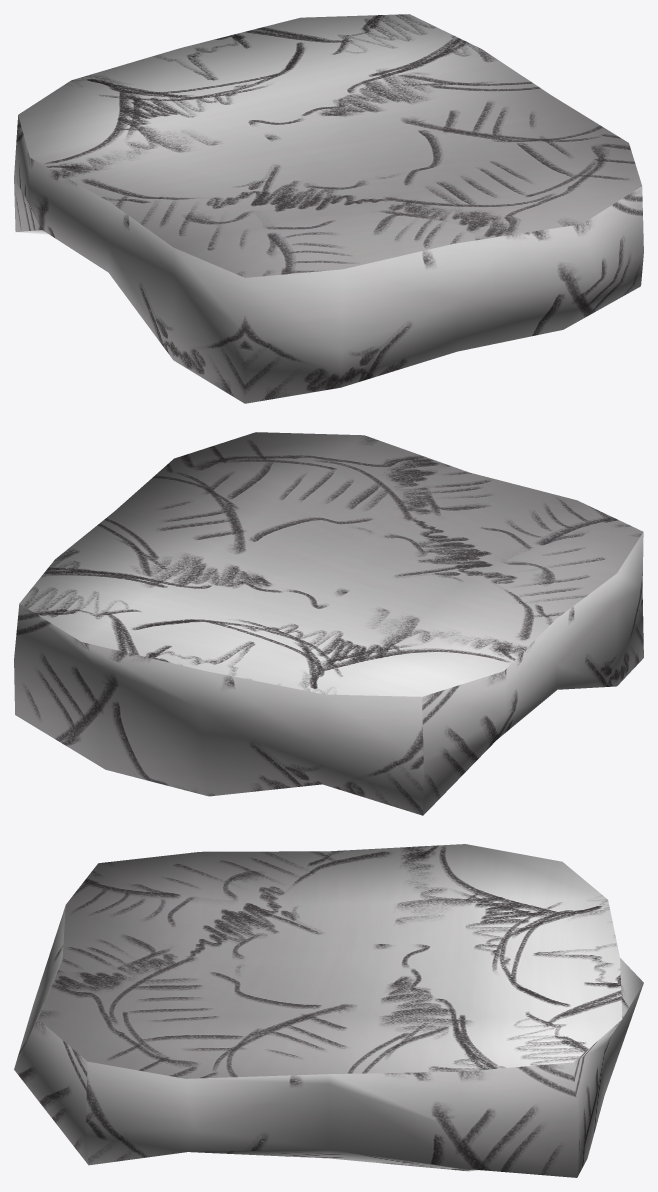
The model's file is Stone.fbx.
3 renders of one model, top to bottom at view 1: azimuth 30°, elevation 25°; view 2: azimuth 150°, elevation 25°; view 3: azimuth 270°, elevation 25°, orthographic. The views are drawn at different scales.
Parts seen in each view (by area): view 1: Stone; view 2: Stone; view 3: Stone.
Part boxes in pixels (x1,y1,x2,y2): Stone: (14, 14, 643, 403); Stone: (14, 432, 643, 815); Stone: (14, 844, 643, 1177).
Size of the model in its own units: 324 by 98.63 by 366.
